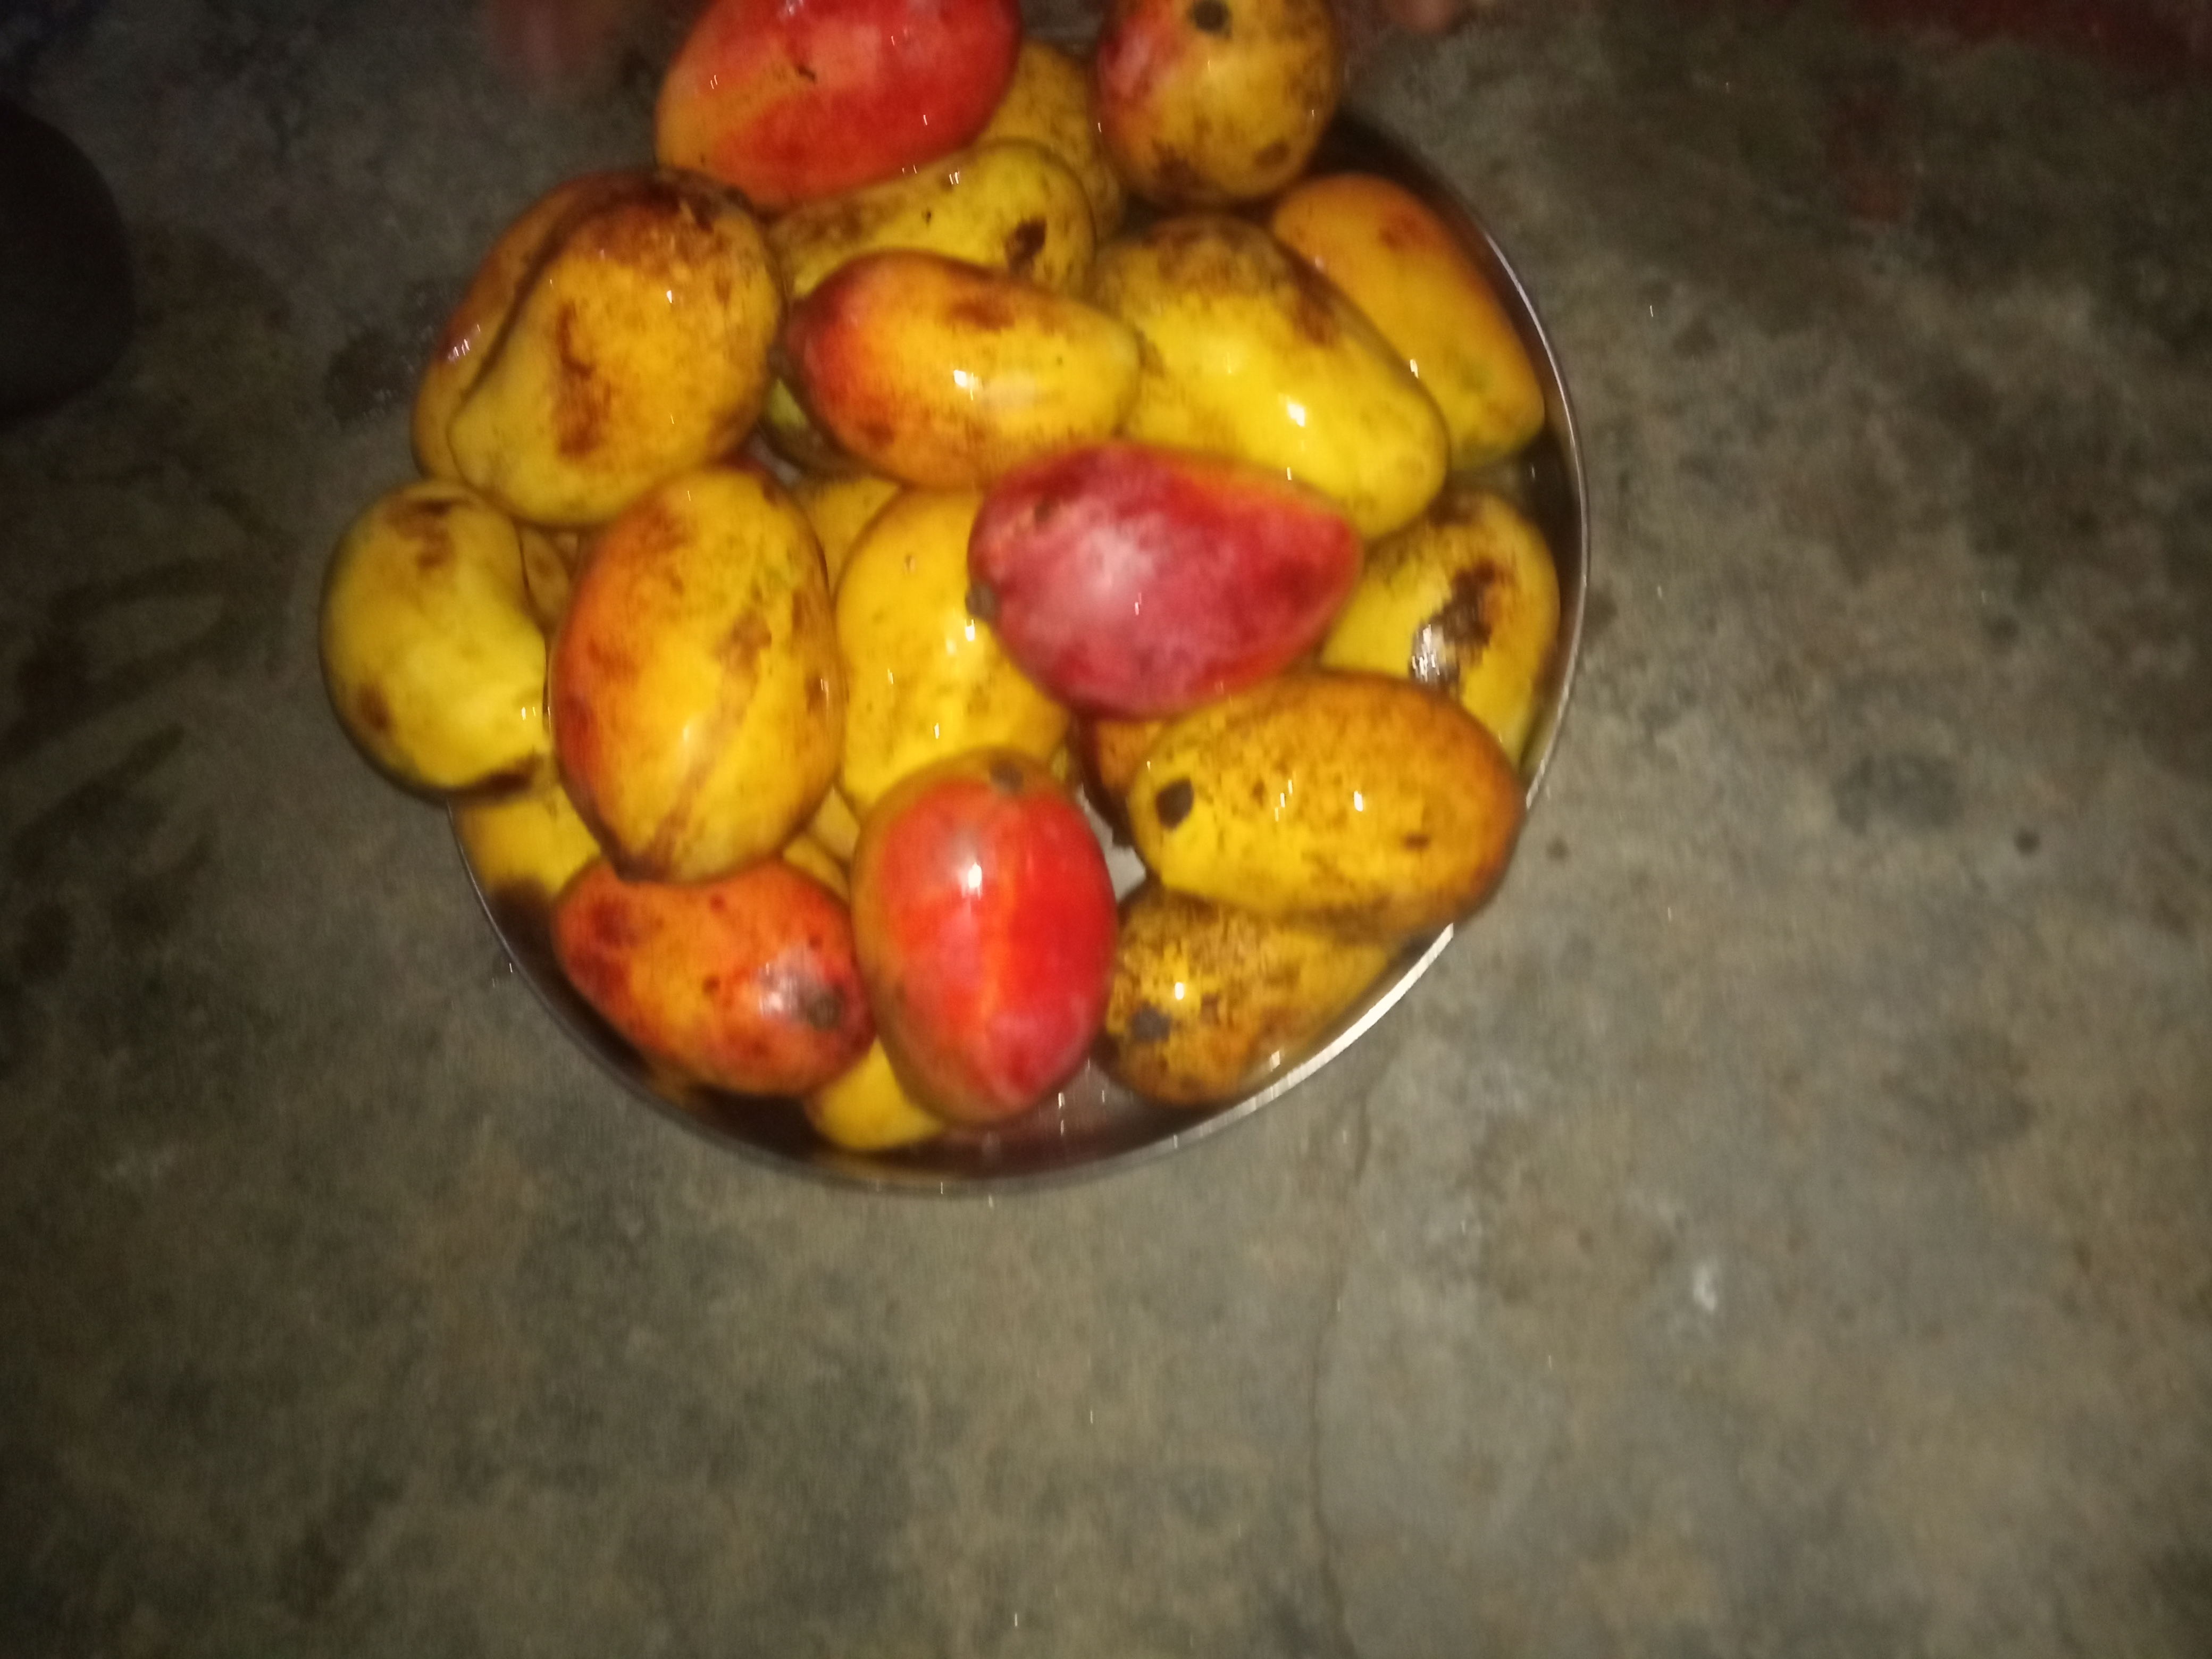food: (303, 0, 1568, 1159)
